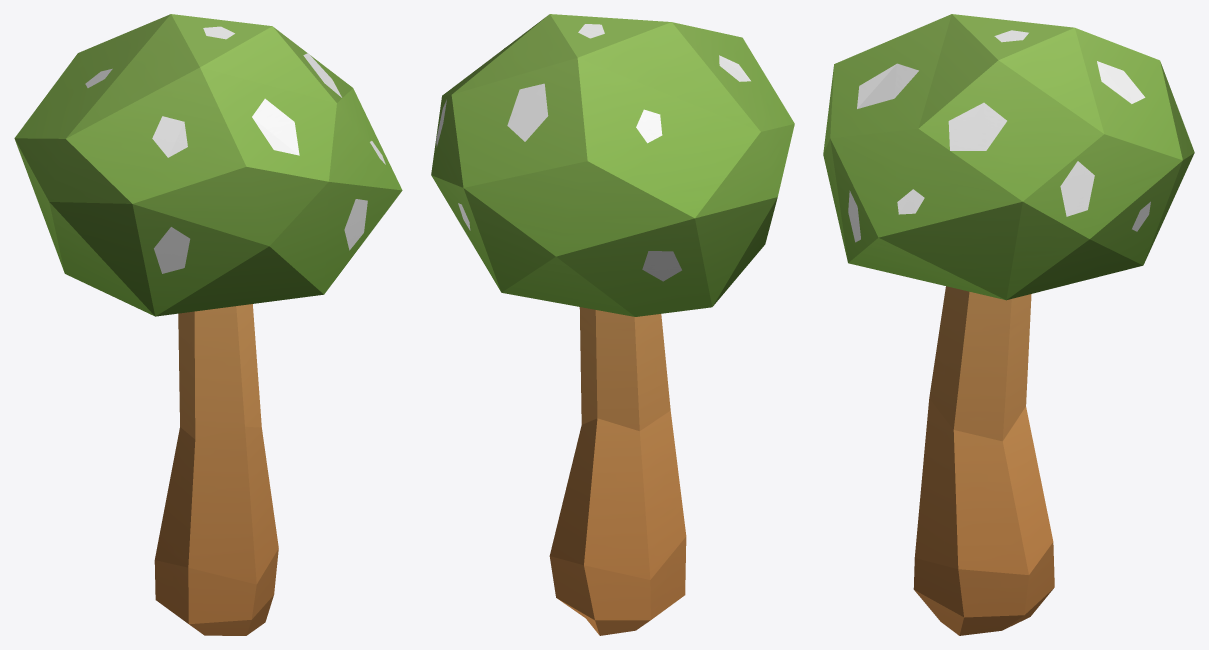
The model's file is mushroom_green_giant.fbx.
3 renders of one model, left to right at view 1: azimuth 30°, elevation 25°; view 2: azimuth 150°, elevation 25°; view 3: azimuth 270°, elevation 25°, orthographic. The views are drawn at different scales.
Parts seen in each view (by area): view 1: mushroom_green_giant; view 2: mushroom_green_giant; view 3: mushroom_green_giant.
Part boxes in pixels (box(x1,y1,x2,y2)): mushroom_green_giant: box(14, 14, 402, 635); mushroom_green_giant: box(431, 14, 794, 635); mushroom_green_giant: box(823, 14, 1194, 635).
Bounding box in the file's own units: 2 × 3.5 × 2.
Materials: 1 (1 with a texture image).
